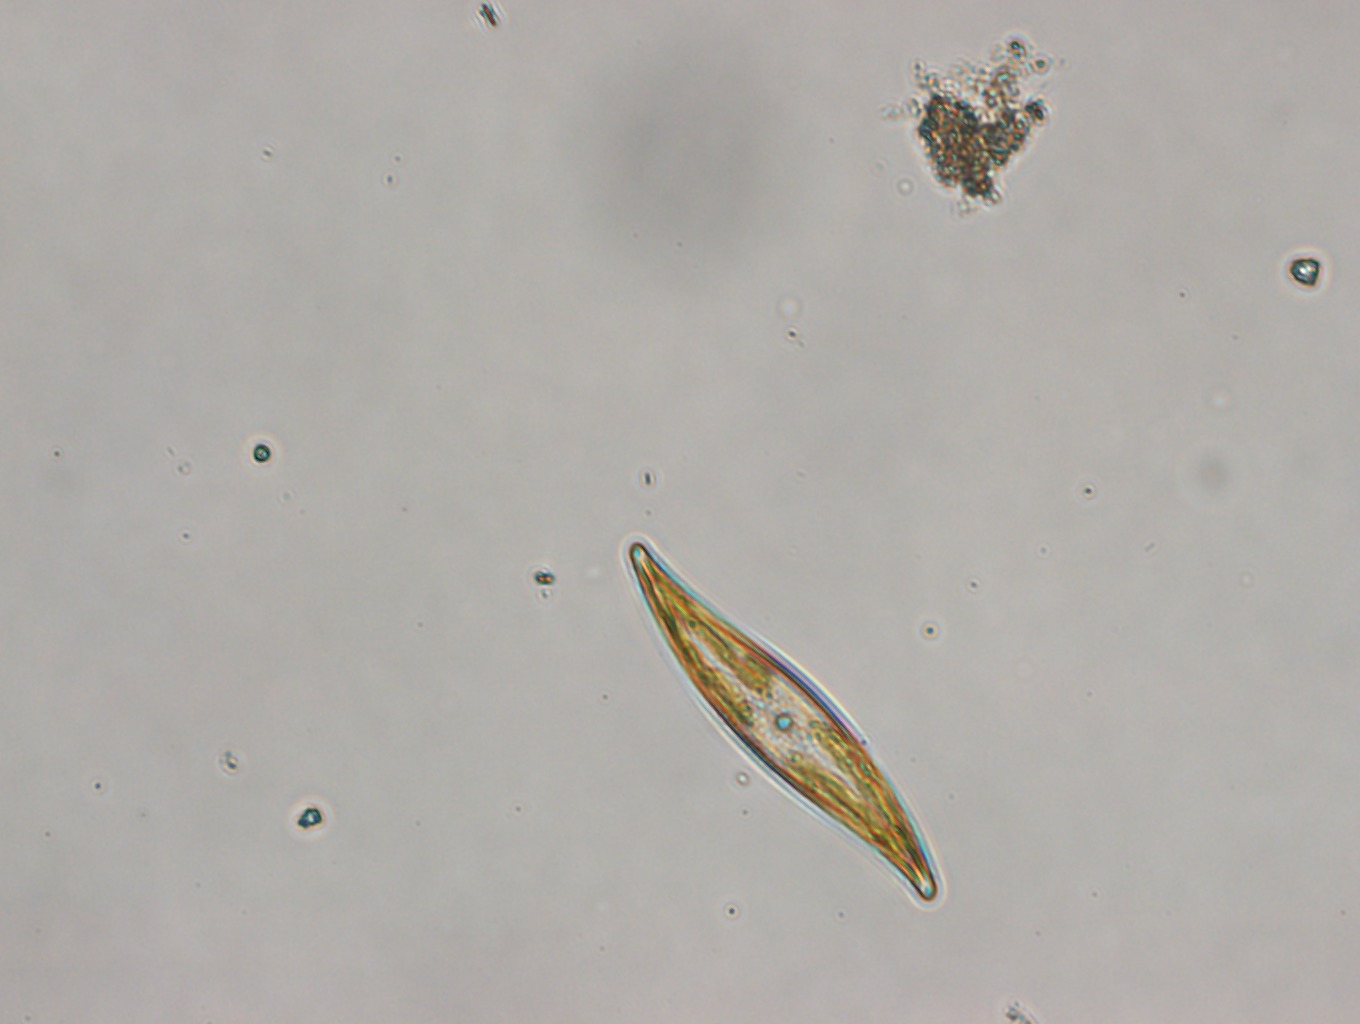pleurosigma pelagicum: (622, 536, 941, 902)
